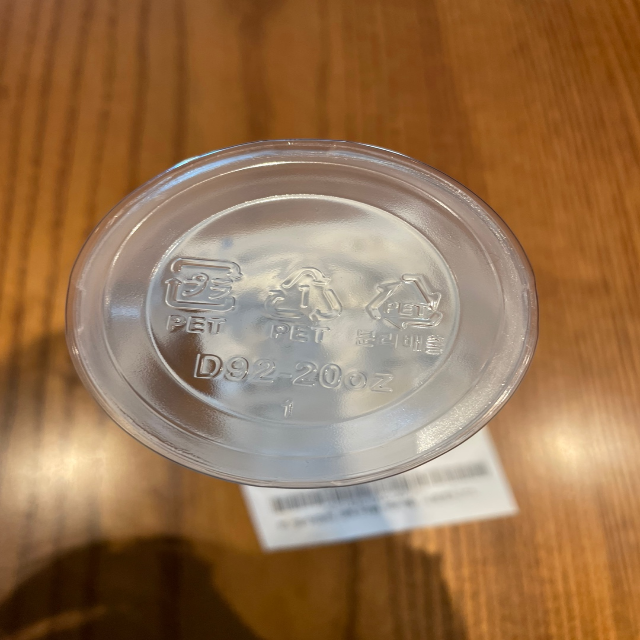pet: (154, 244, 245, 340), (357, 265, 451, 353), (259, 259, 342, 352)
